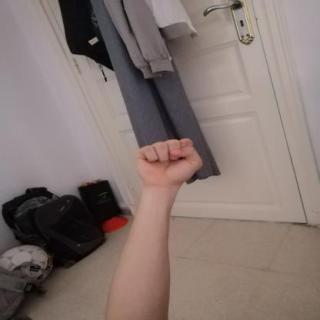SAD: (128, 135, 209, 190)
